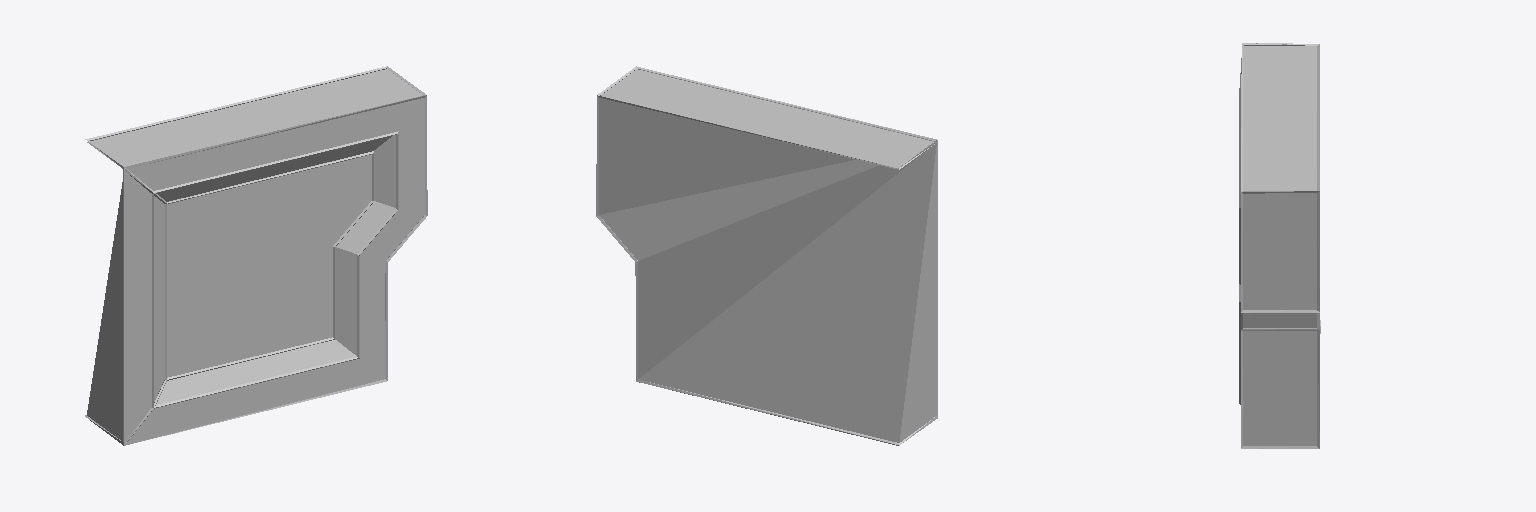
Rendered from gate_inner_r.obj.
3 views of the same model, side by side, from view 1: azimuth 30°, elevation 25°; view 2: azimuth 150°, elevation 25°; view 3: azimuth 270°, elevation 25° (orthographic).
Parts seen in each view (by area): view 1: Cube.003_Cube.006, Cube.001_Cube.003; view 2: Cube.003_Cube.006, Cube.001_Cube.003; view 3: Cube.003_Cube.006, Cube.001_Cube.003.
Part boxes in pixels (x1,y1,x2,y2): Cube.003_Cube.006: (87, 69, 424, 441); Cube.001_Cube.003: (85, 66, 427, 445); Cube.003_Cube.006: (599, 69, 936, 442); Cube.001_Cube.003: (596, 66, 937, 445); Cube.003_Cube.006: (1243, 46, 1316, 445); Cube.001_Cube.003: (1239, 43, 1320, 448).
Size of the model in its own units: 5.58 by 4.9 by 1.29.